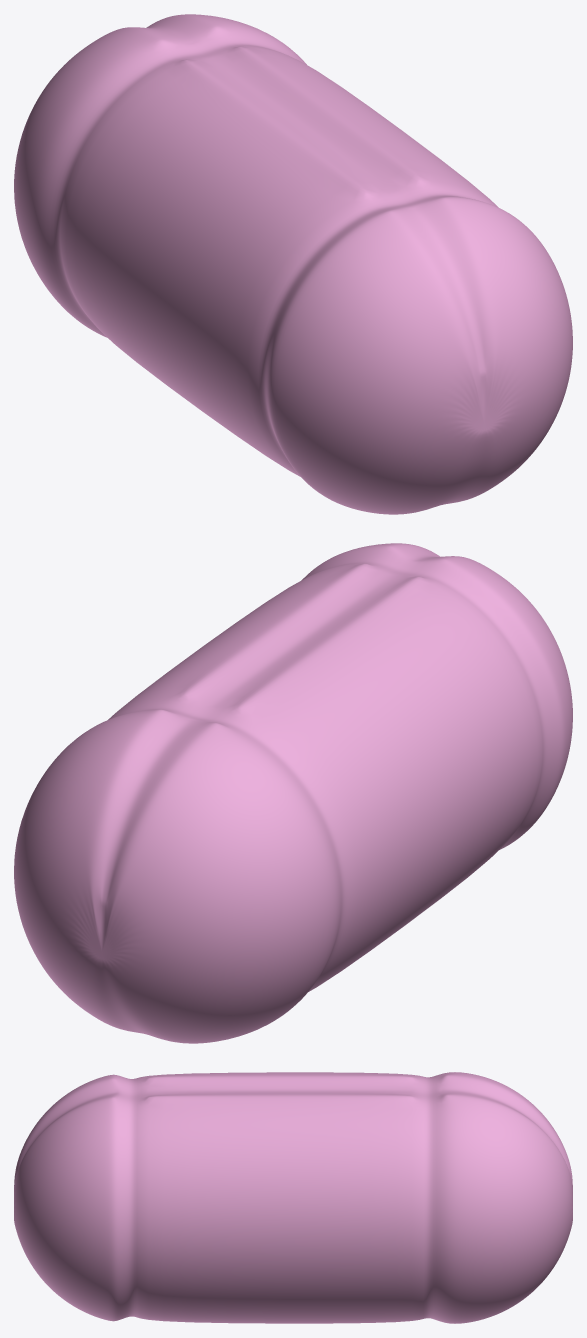
Rendered from kolbasa.fbx.
The picture shows the model from 3 angles, top to bottom: view 1: azimuth 30°, elevation 25°; view 2: azimuth 150°, elevation 25°; view 3: azimuth 270°, elevation 25°; orthographic projection. The views are drawn at different scales.
Parts seen in each view (by area): view 1: Sphere; view 2: Sphere; view 3: Sphere.
Boxes of the visible parts, x1=… form: Sphere: x1=14, y1=14, x2=572, y2=514; Sphere: x1=14, y1=543, x2=572, y2=1043; Sphere: x1=14, y1=1072, x2=572, y2=1323.
Bounding box in the file's own units: 197 × 192 × 436.
